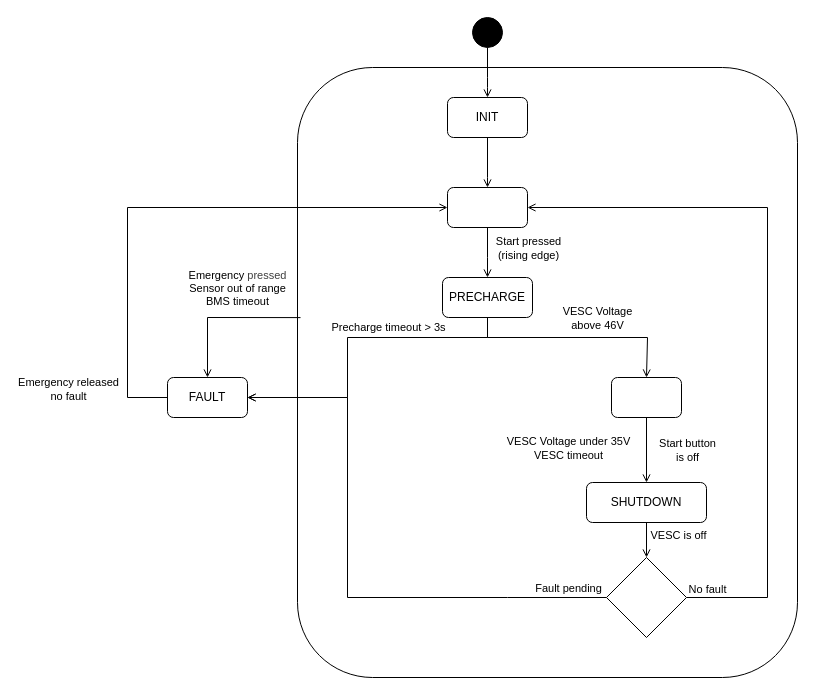
Some shapes in this 815 by 695 pixel diagram are drawn without their labels. Each missing label, with the box of its shape:
DRIVE: (610, 376, 682, 418)
STANDBY: (446, 186, 528, 228)
